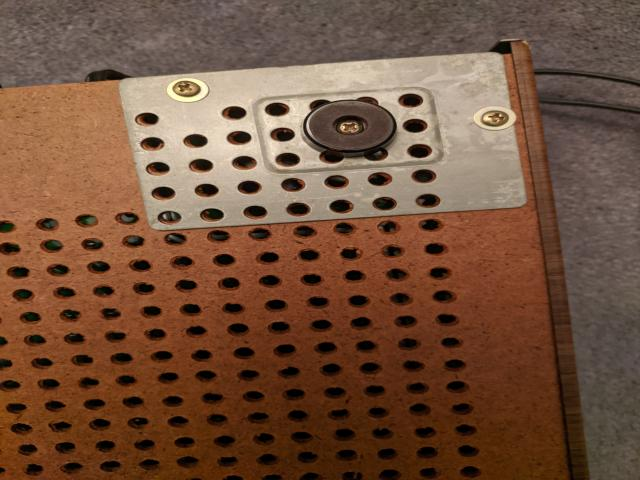CRS: (172, 79, 201, 95), (480, 110, 508, 126), (335, 120, 364, 134)
